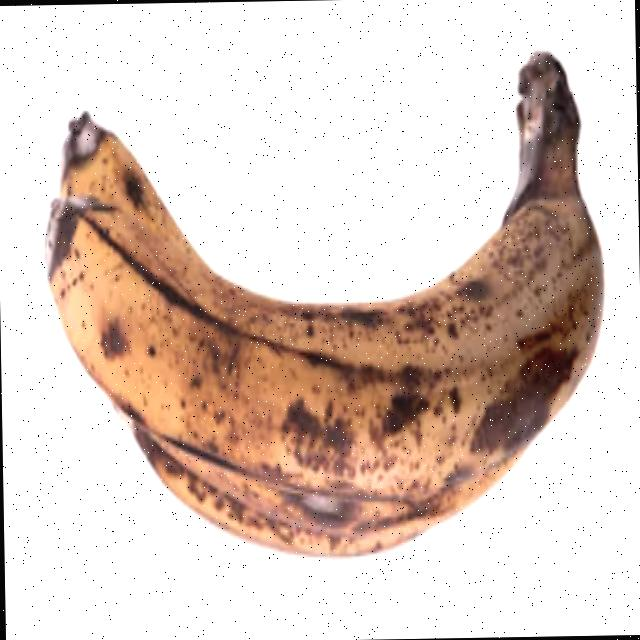rotten banana: (42, 0, 625, 630)
